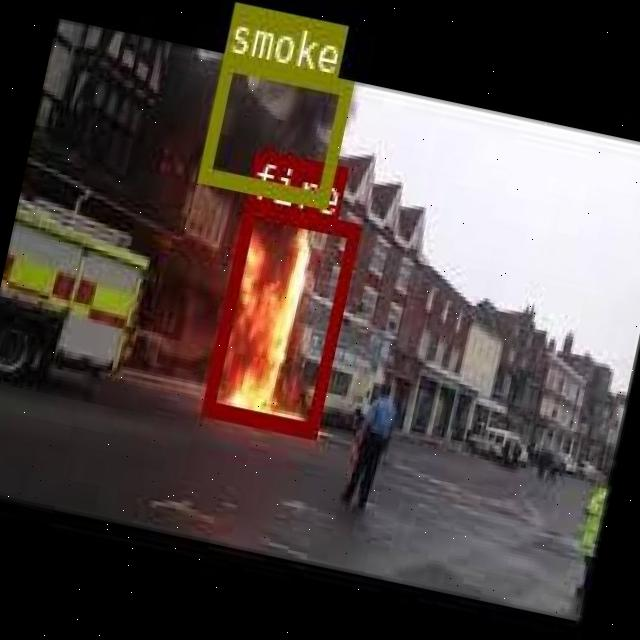fire: (200, 199, 358, 435)
smoke: (196, 52, 352, 206)
